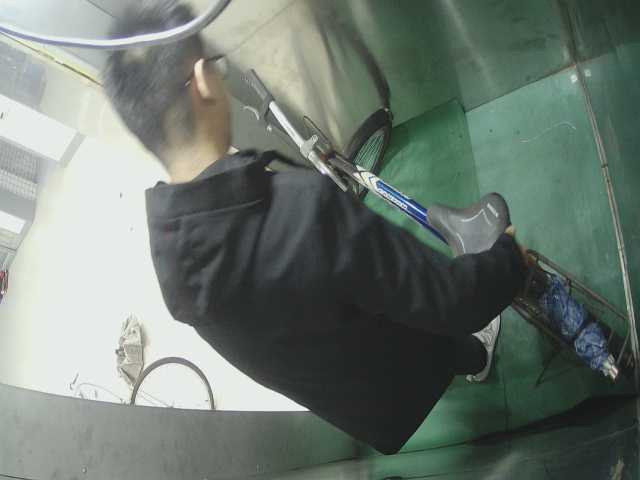bicycle: (241, 63, 632, 386), (64, 347, 230, 420)
person: (108, 14, 525, 413)
